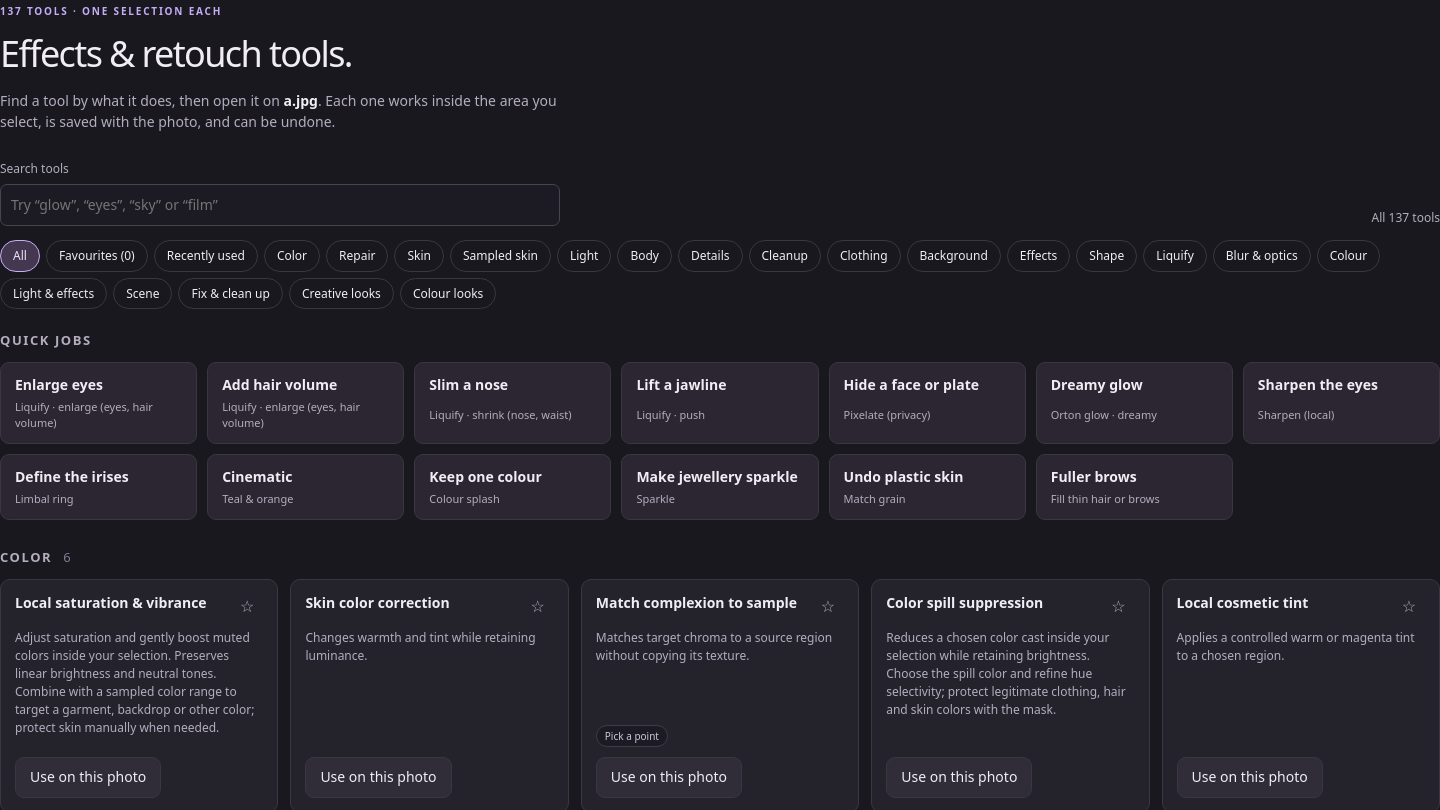
Scenario: a group chip shows only that group
Click the button "Liquify": [1175, 256] box [1143,240,1207,272]
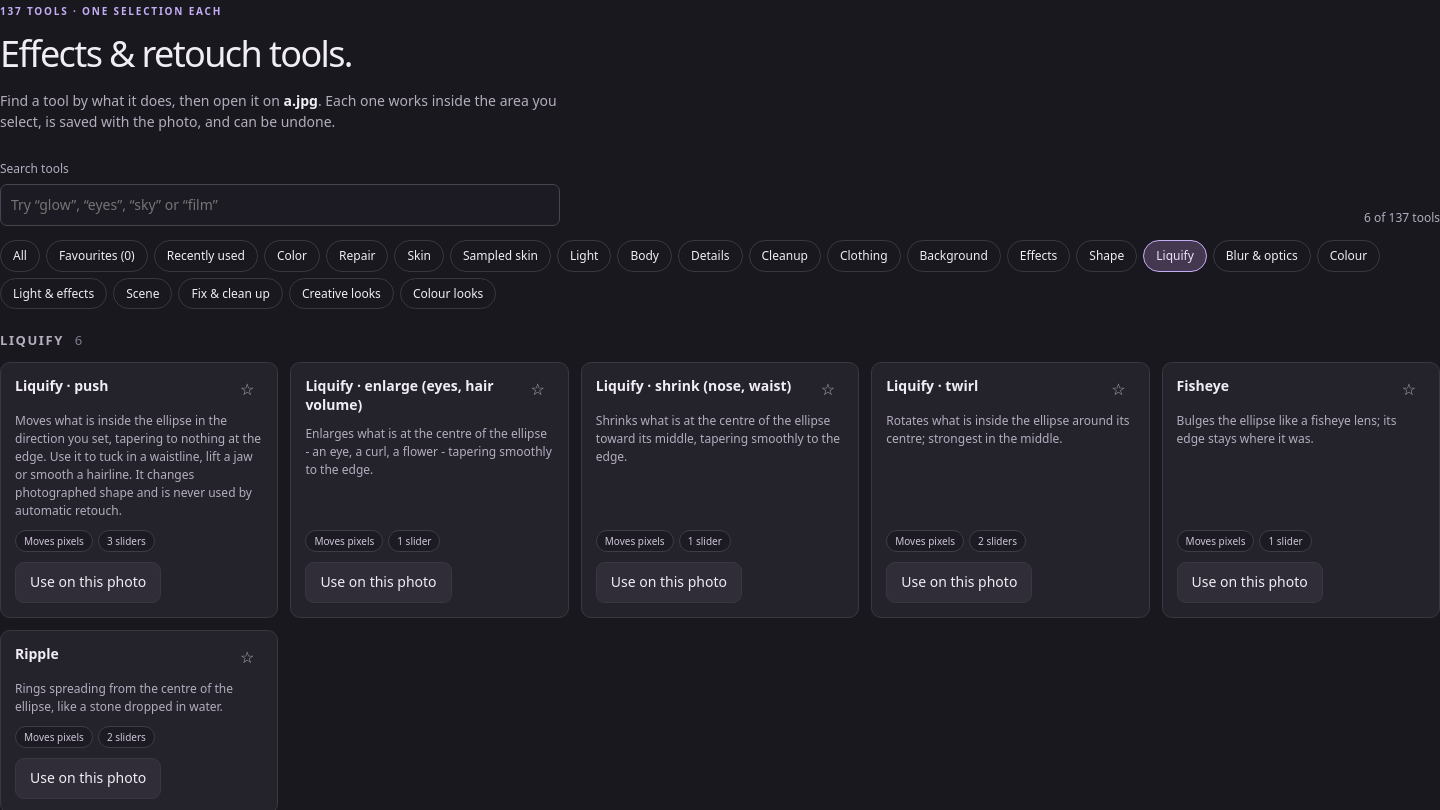
Expected: the number of buttons "Use on this photo" is 6, [15,562,161,603]; [305,562,452,603]; [596,562,742,603]; [886,562,1032,603]; [1177,562,1323,603]; [15,758,161,799]
